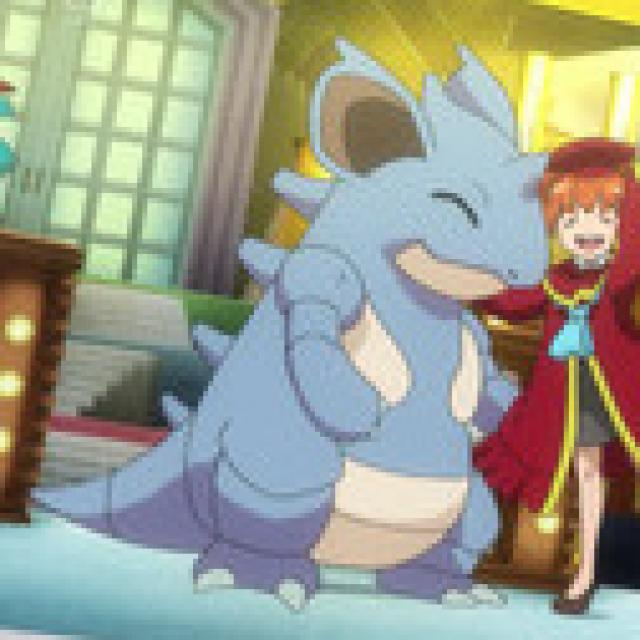Nidoqueen: (103, 64, 568, 622)
